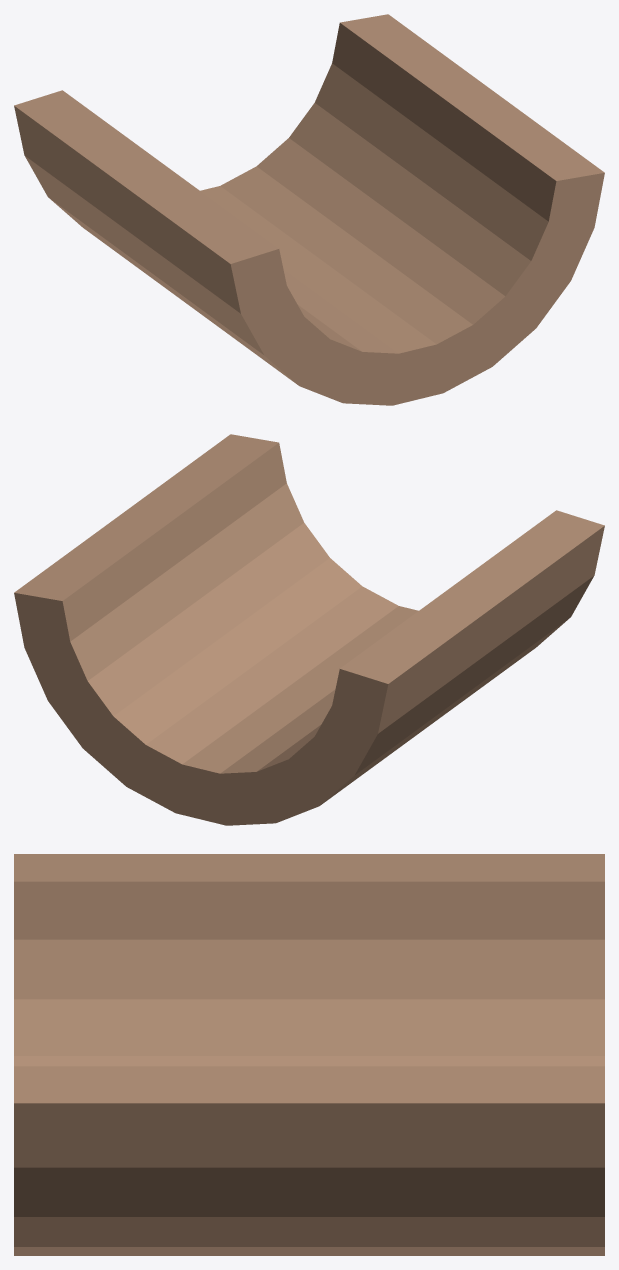
The model's file is Tunel003.fbx.
3 renders of one model, top to bottom at view 1: azimuth 30°, elevation 25°; view 2: azimuth 150°, elevation 25°; view 3: azimuth 270°, elevation 25°, orthographic. The views are drawn at different scales.
Visible parts, largest first — view 1: Cylinder.005; view 2: Cylinder.005; view 3: Cylinder.005.
Part boxes in pixels (x1,y1,x2,y2): Cylinder.005: (14, 14, 604, 405); Cylinder.005: (14, 434, 604, 825); Cylinder.005: (14, 854, 604, 1255).
Bounding box in the file's own units: 807 × 380 × 808.
